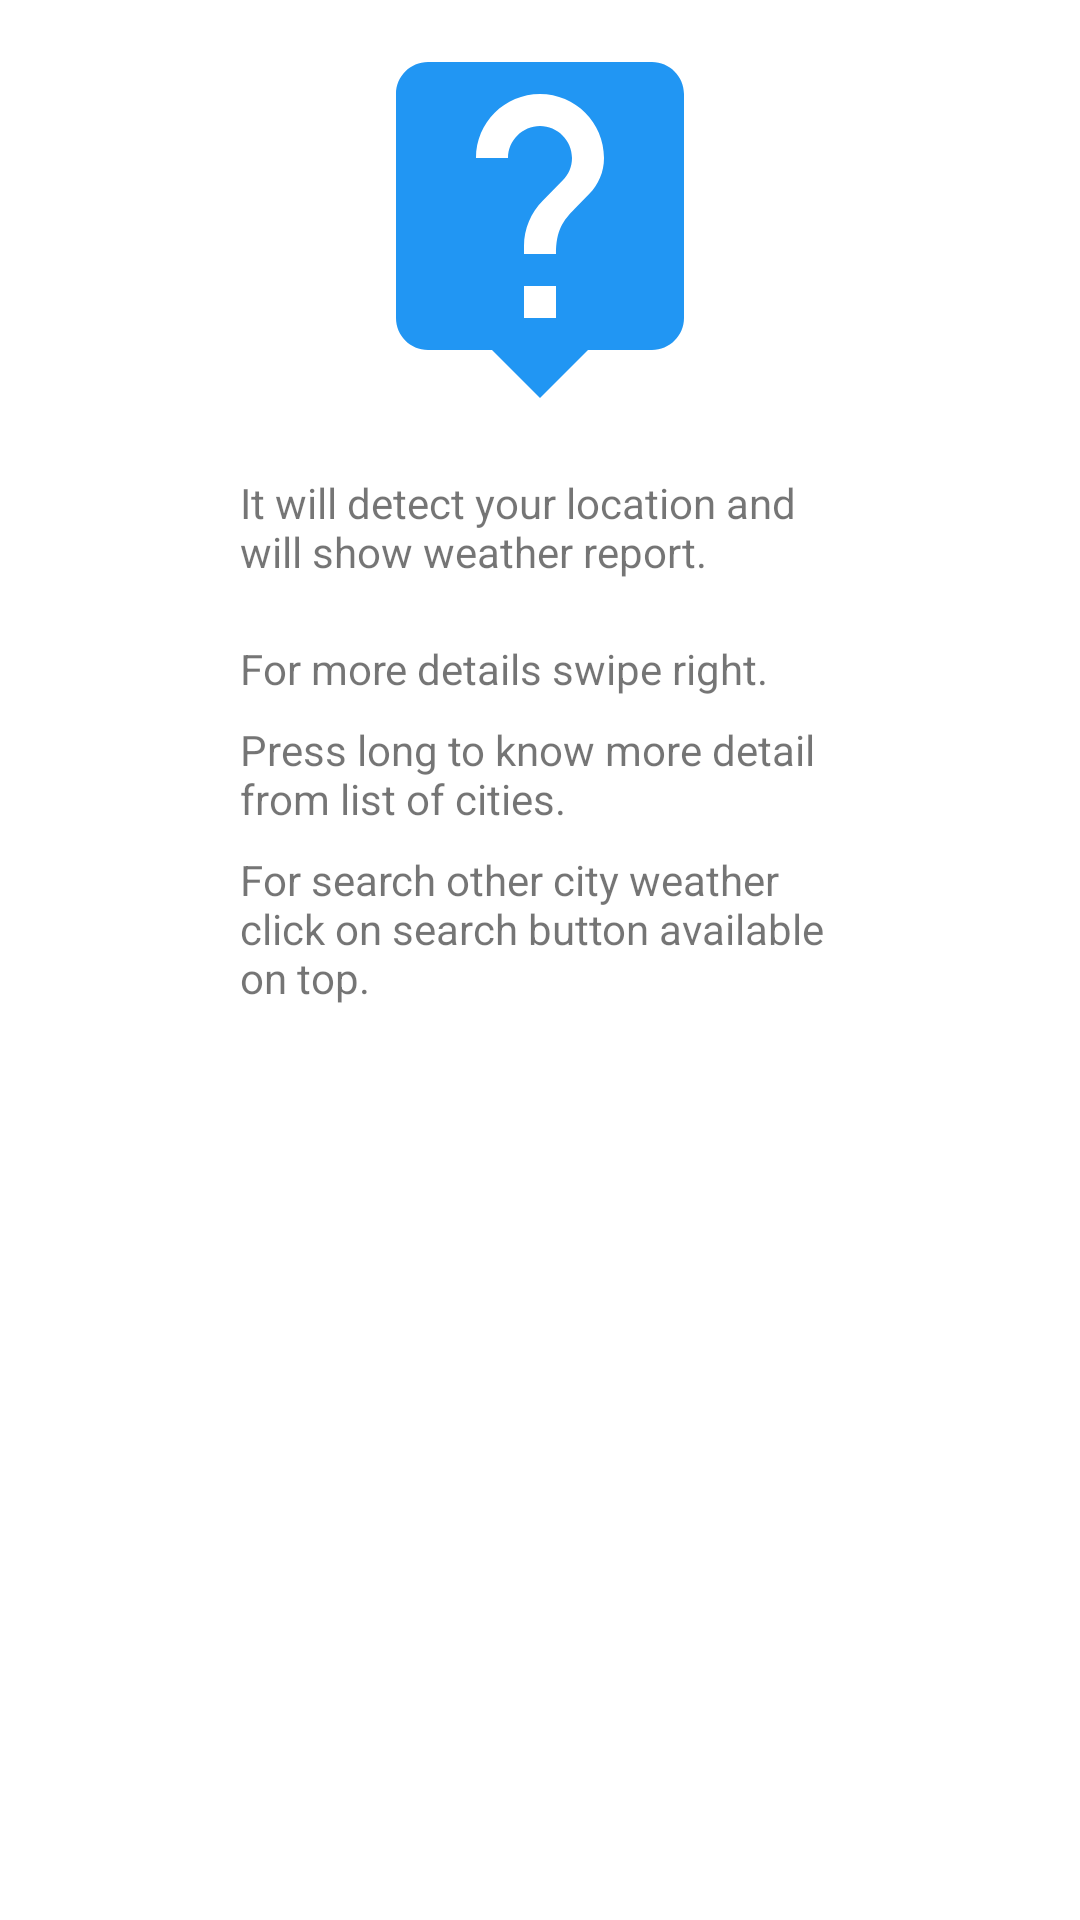

Where to tap for icons on this 1080w x 1920h app screen, as (x=x, y=y):
help dialog: (x=540, y=230)
